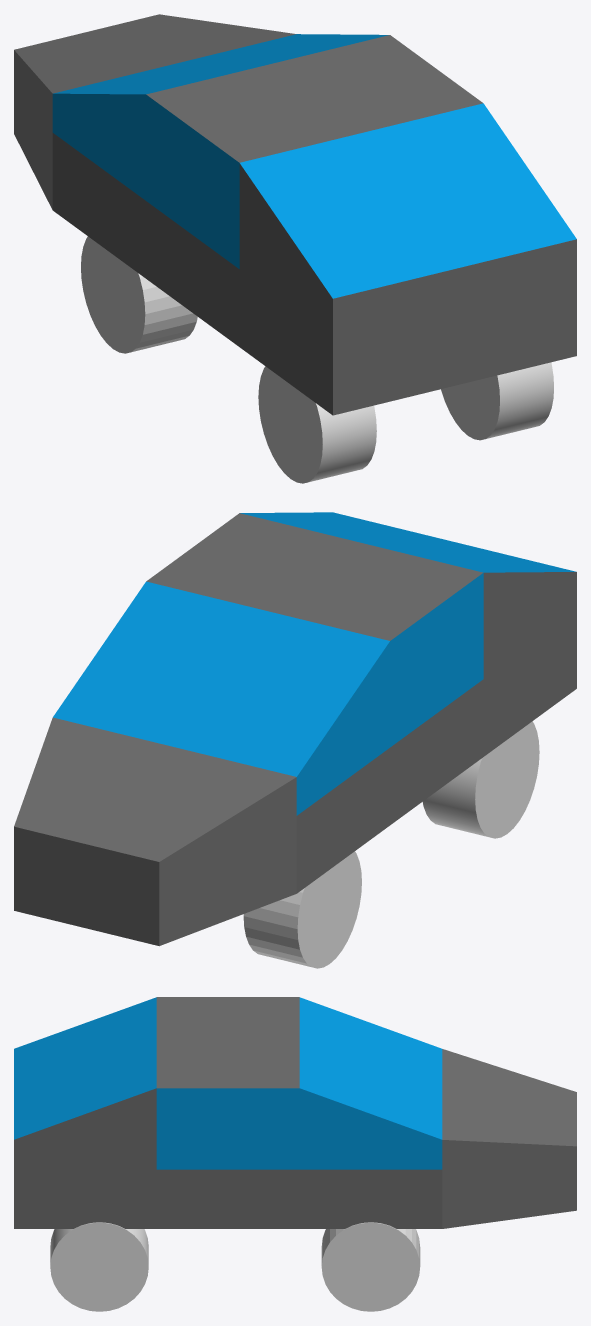
Rendered from carBlockOut.fbx.
3 views of the same model, one above another, from view 1: azimuth 30°, elevation 25°; view 2: azimuth 150°, elevation 25°; view 3: azimuth 270°, elevation 25° (orthographic). The views are drawn at different scales.
Visible parts, largest first — view 1: Cube, Cylinder, Cylinder.001, Cylinder.002; view 2: Cube, Cylinder.001, Cylinder; view 3: Cube, Cylinder.003, Cylinder.002.
Boxes of the visible parts, <box> form: Cube: <box>14,14,576,415</box>; Cylinder: <box>258,366,376,483</box>; Cylinder.001: <box>81,236,197,353</box>; Cylinder.002: <box>441,362,553,440</box>; Cube: <box>14,512,576,946</box>; Cylinder.001: <box>243,851,361,968</box>; Cylinder: <box>422,721,539,838</box>; Cube: <box>14,997,576,1228</box>; Cylinder.003: <box>321,1222,420,1311</box>; Cylinder.002: <box>50,1222,148,1311</box>.
Bounding box in the file's own units: 439 × 500 × 1143.
